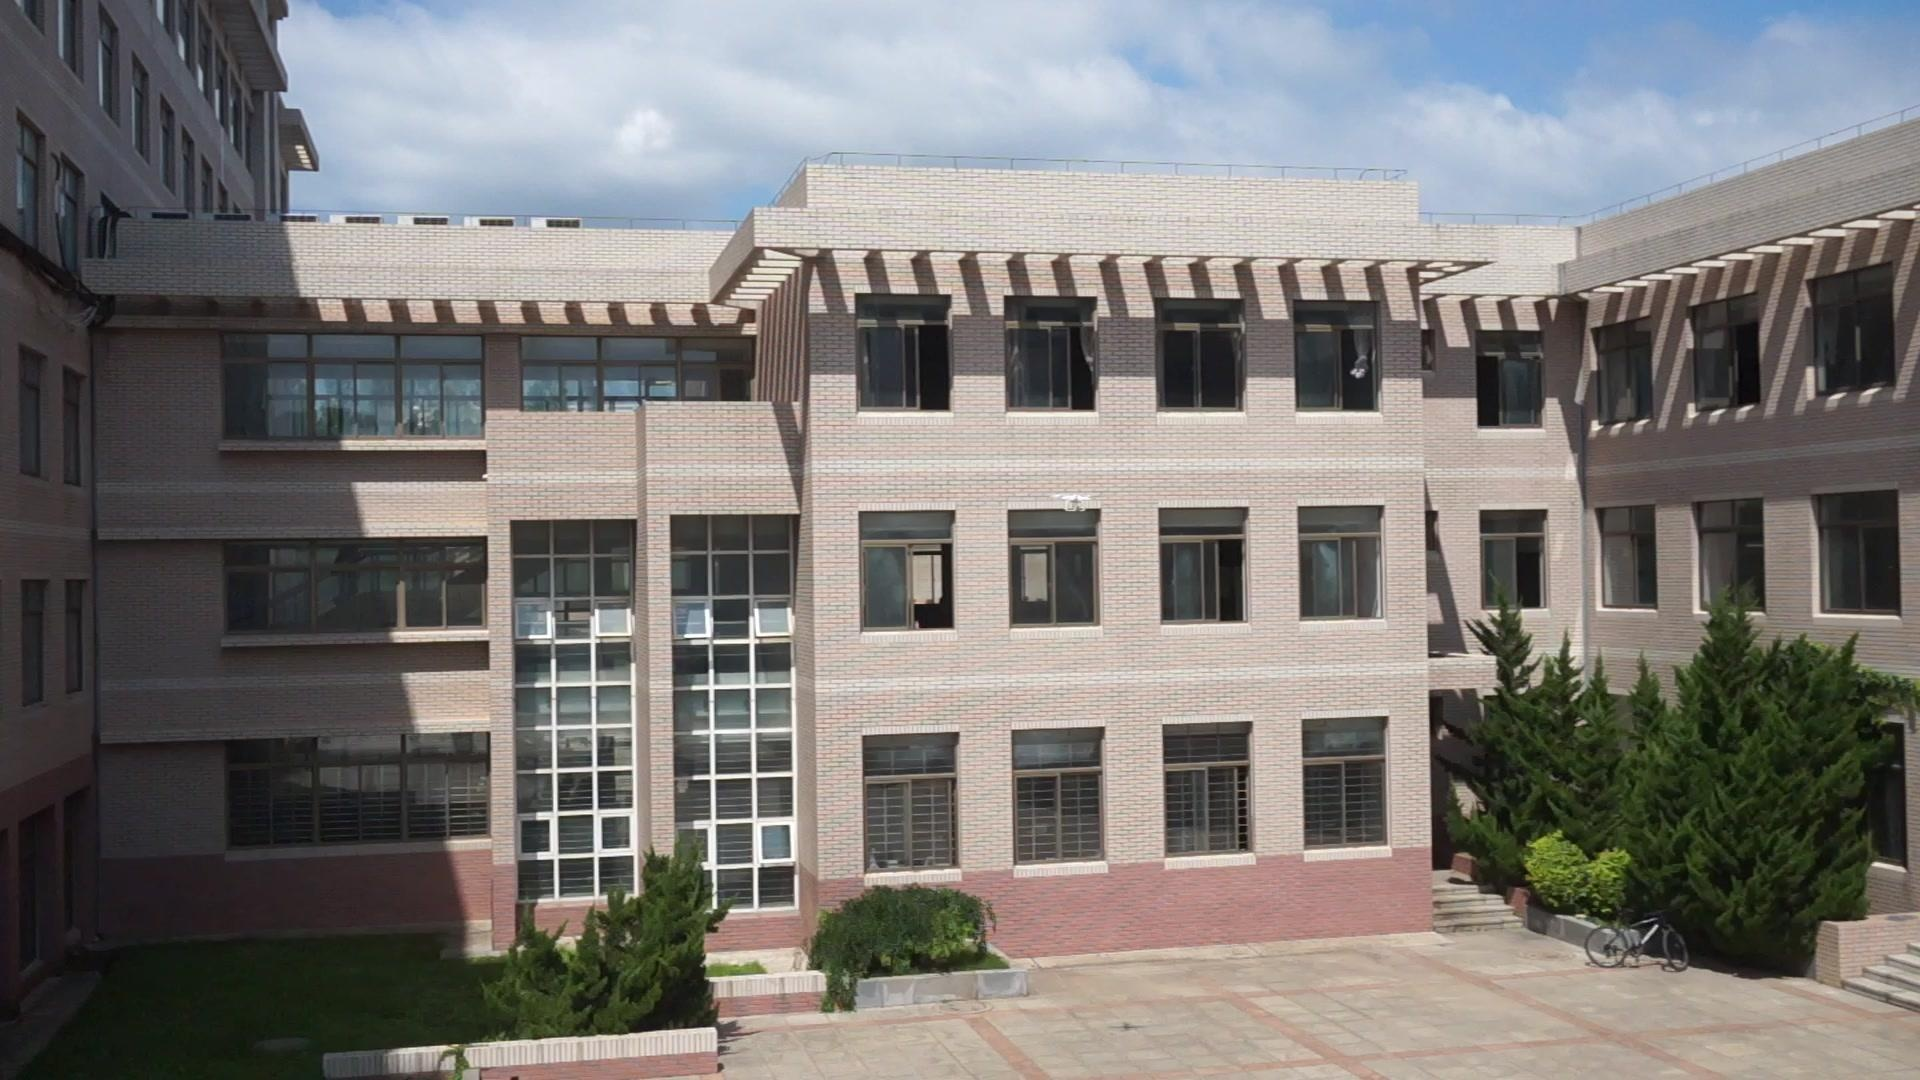UAV: (1054, 495, 1095, 512)
